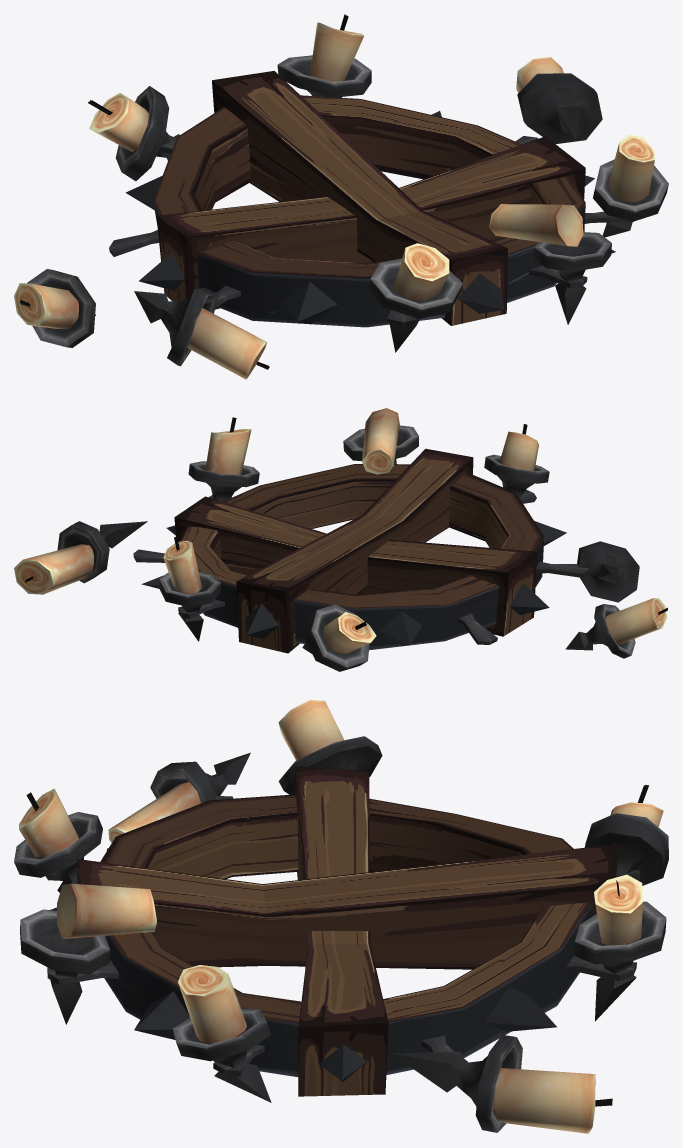
File: SM_PROP_chandelier_dungeon_02.fbx
3 renders of one model, top to bottom at view 1: azimuth 30°, elevation 25°; view 2: azimuth 150°, elevation 25°; view 3: azimuth 270°, elevation 25°, orthographic. The views are drawn at different scales.
Visible parts, largest first — view 1: SM_PROP_chandelier_dungeon_02; view 2: SM_PROP_chandelier_dungeon_02; view 3: SM_PROP_chandelier_dungeon_02.
Boxes of the visible parts, <box> form: SM_PROP_chandelier_dungeon_02: <box>14,14,668,379</box>; SM_PROP_chandelier_dungeon_02: <box>14,408,667,671</box>; SM_PROP_chandelier_dungeon_02: <box>14,700,668,1133</box>.
Size of the model in its own units: 363 by 72.85 by 266.
